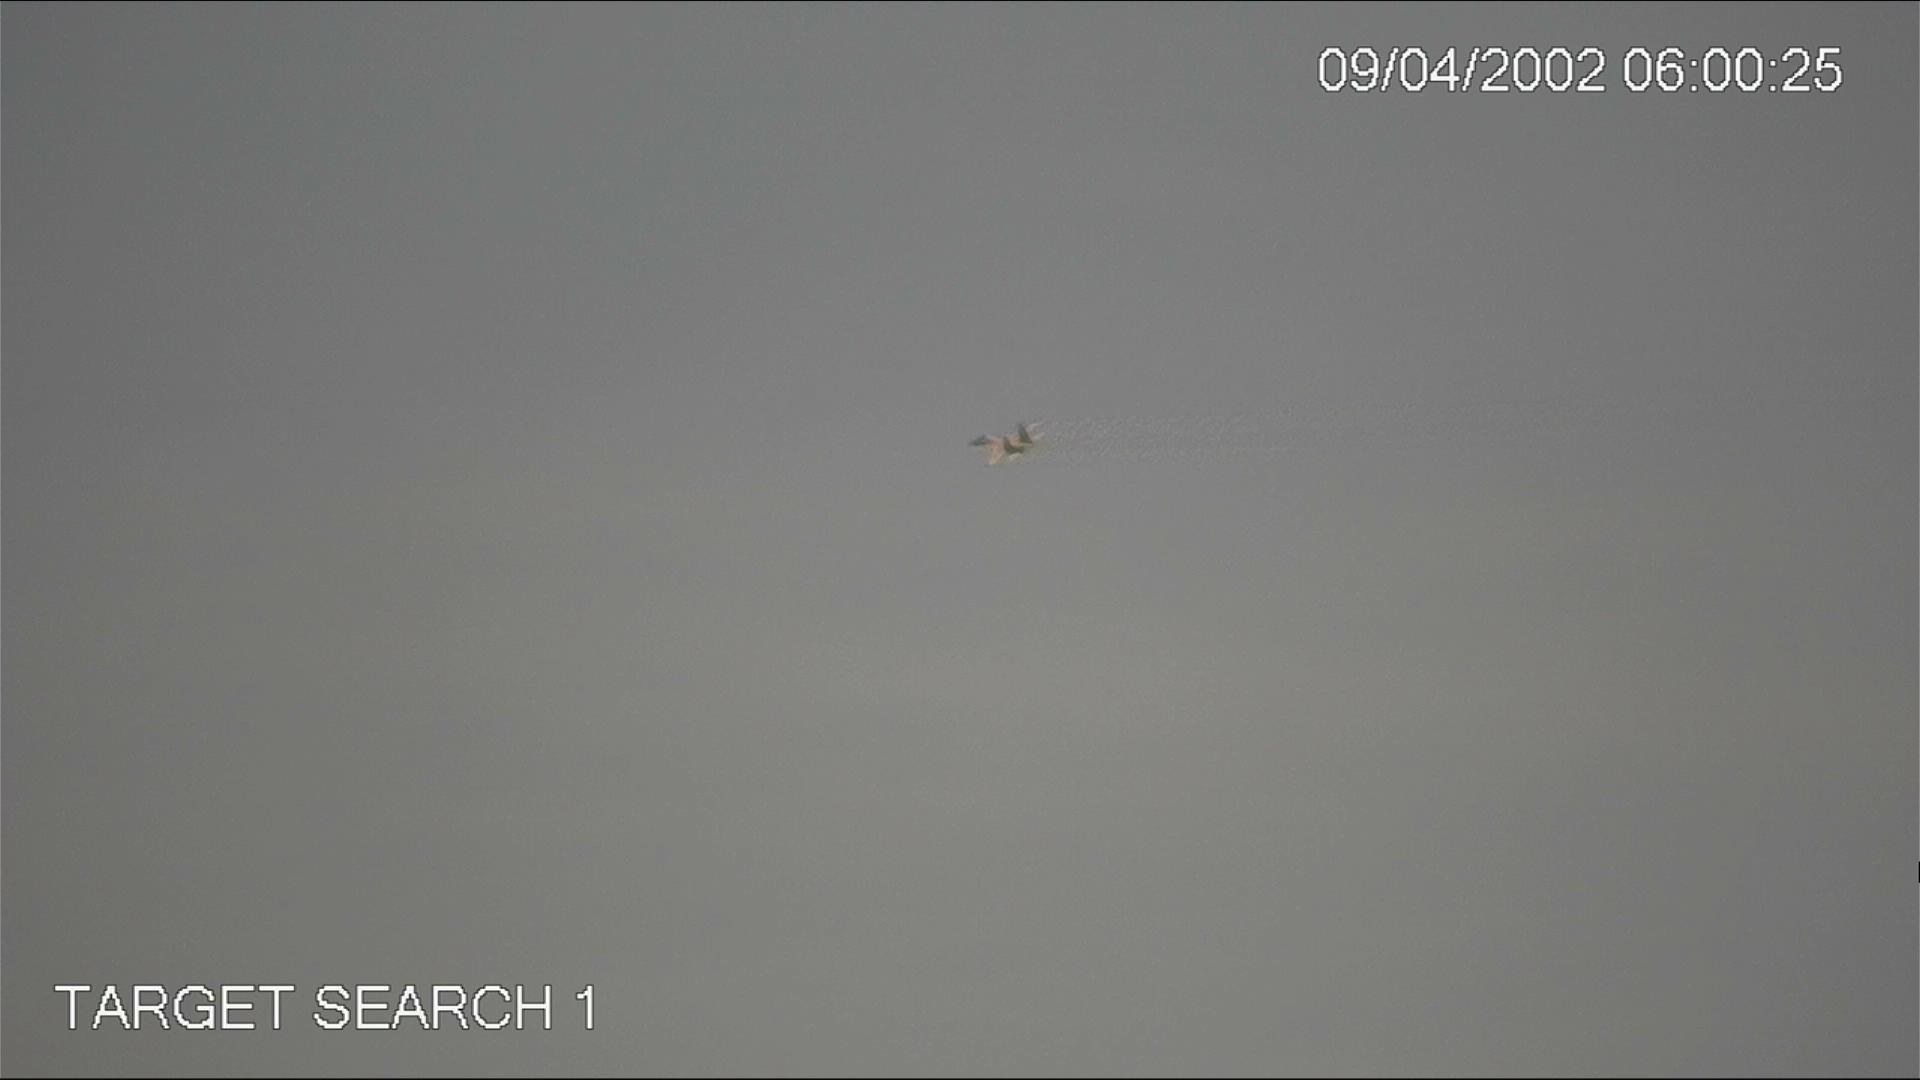SU_30: (971, 425, 1046, 468)
